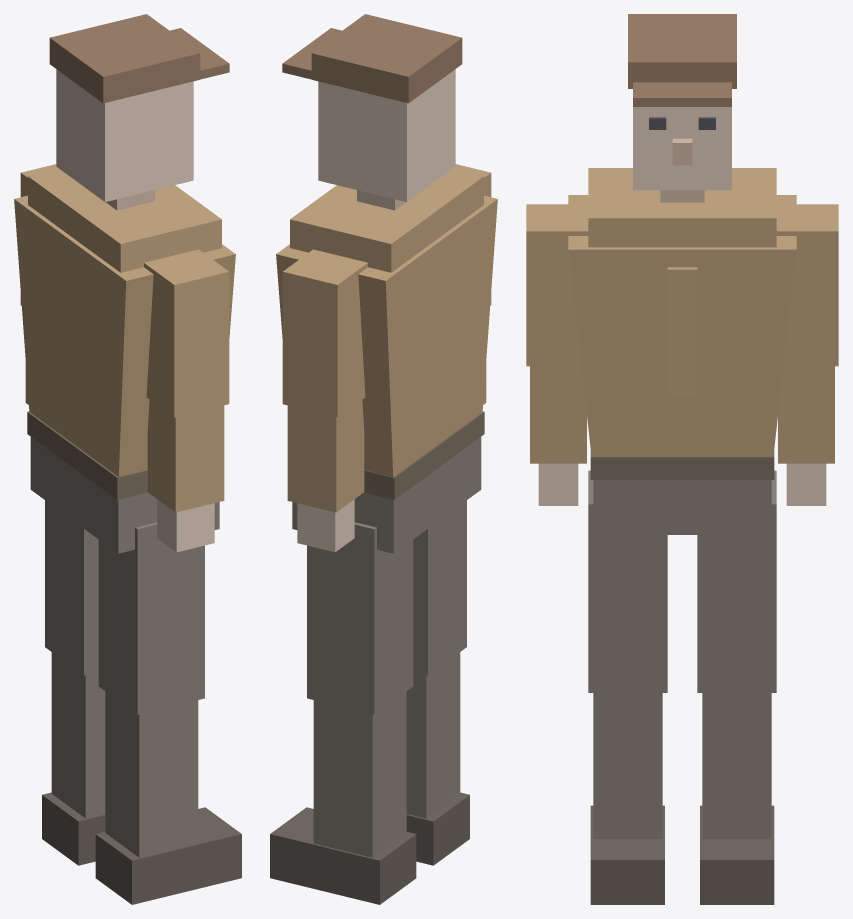
Rendered from char_bot.glb.
The picture shows the model from 3 angles, left to right: view 1: azimuth 30°, elevation 25°; view 2: azimuth 150°, elevation 25°; view 3: azimuth 270°, elevation 25°; orthographic projection.
Parts seen in each view (by area): view 1: torso, leg_r, head, arm_r, leg_l, hips, arm_l; view 2: torso, leg_l, head, arm_l, leg_r, hips, arm_r; view 3: torso, leg_l, leg_r, head, arm_l, arm_r, hips.
Part boxes in pixels (box(x1,y1,x2,y2)): torso: box(14, 169, 235, 476); leg_r: box(95, 522, 241, 904); head: box(49, 14, 229, 201); arm_r: box(144, 249, 229, 552); leg_l: box(42, 500, 105, 865); hips: box(27, 411, 219, 553); arm_l: box(20, 164, 58, 404); torso: box(276, 169, 497, 476); leg_l: box(270, 522, 416, 904); head: box(282, 14, 462, 201); arm_l: box(282, 249, 367, 552); leg_r: box(406, 500, 469, 865); hips: box(292, 411, 484, 553); arm_r: box(453, 164, 491, 404); torso: box(568, 168, 796, 456); leg_l: box(697, 470, 776, 904); leg_r: box(588, 470, 667, 904); head: box(628, 14, 736, 190); arm_l: box(776, 204, 838, 505); arm_r: box(526, 204, 588, 505); hips: box(590, 450, 774, 534).
Size of the model in its own units: 0.32 by 1.85 by 0.63.
